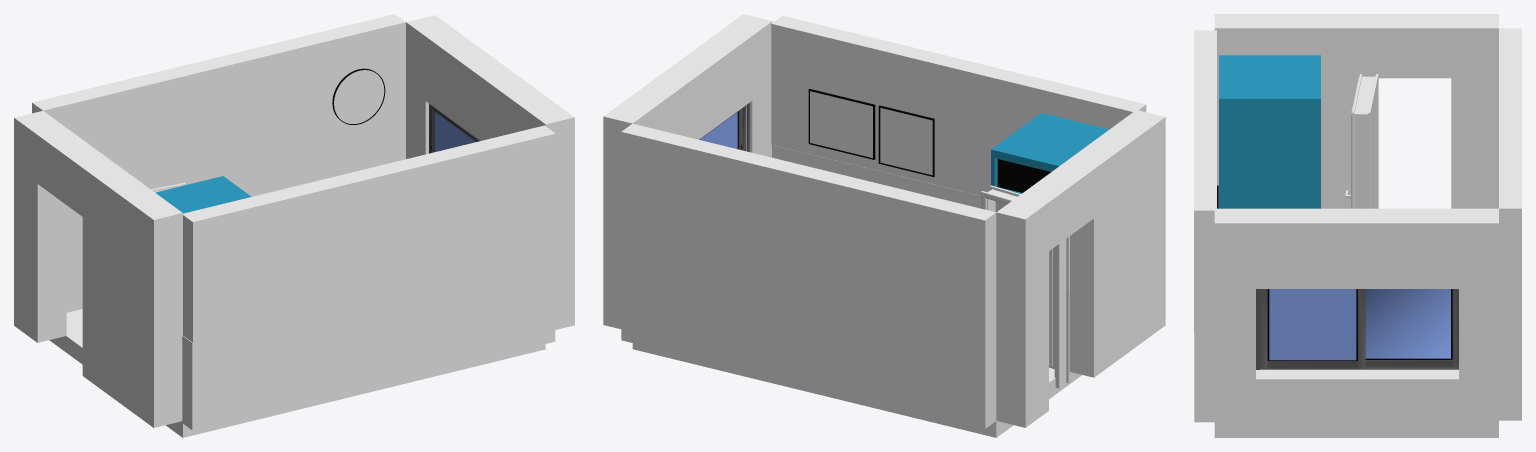
File: kamer_veltman.glb
The picture shows the model from 3 angles, left to right: view 1: azimuth 30°, elevation 25°; view 2: azimuth 150°, elevation 25°; view 3: azimuth 270°, elevation 25°; orthographic projection.
Parts seen in each view (by area): view 1: muren, muur wit 0.5, muur blauw, muur blauw 0.5, vloer, Mirror Circle.002, kast, Sliding window; view 2: muur blauw, muren, muur wit 0.5, kast, Frame.003, furni, Frame.001, vloer, muur blauw 0.5, Sliding window; view 3: muren, Sliding window, kast, muur blauw, muur wit 0.5, furni, muur blauw 0.5, vloer.
Part boxes in pixels (x1,y1,x2,y2): muren: [14, 15, 574, 427]; muur wit 0.5: [183, 125, 555, 342]; muur blauw: [32, 14, 405, 312]; muur blauw 0.5: [181, 254, 555, 430]; vloer: [49, 309, 545, 437]; Mirror Circle.002: [332, 68, 385, 124]; kast: [155, 176, 251, 213]; Sliding window: [429, 104, 479, 153]; muur blauw: [621, 123, 996, 428]; muren: [603, 14, 1165, 427]; muur wit 0.5: [771, 15, 1146, 195]; kast: [991, 113, 1109, 193]; Frame.003: [808, 88, 875, 159]; furni: [981, 185, 1069, 388]; Frame.001: [878, 105, 934, 176]; vloer: [632, 343, 1081, 437]; muur blauw 0.5: [772, 145, 980, 208]; Sliding window: [699, 102, 749, 151]; muren: [1214, 14, 1498, 434]; Sliding window: [1256, 289, 1458, 369]; kast: [1219, 55, 1320, 208]; muur blauw: [1499, 28, 1521, 420]; muur wit 0.5: [1194, 30, 1216, 333]; furni: [1345, 74, 1378, 208]; muur blauw 0.5: [1194, 333, 1214, 422]; vloer: [1214, 435, 1498, 437].
Size of the model in its own units: 4.87 by 2.69 by 3.22.
